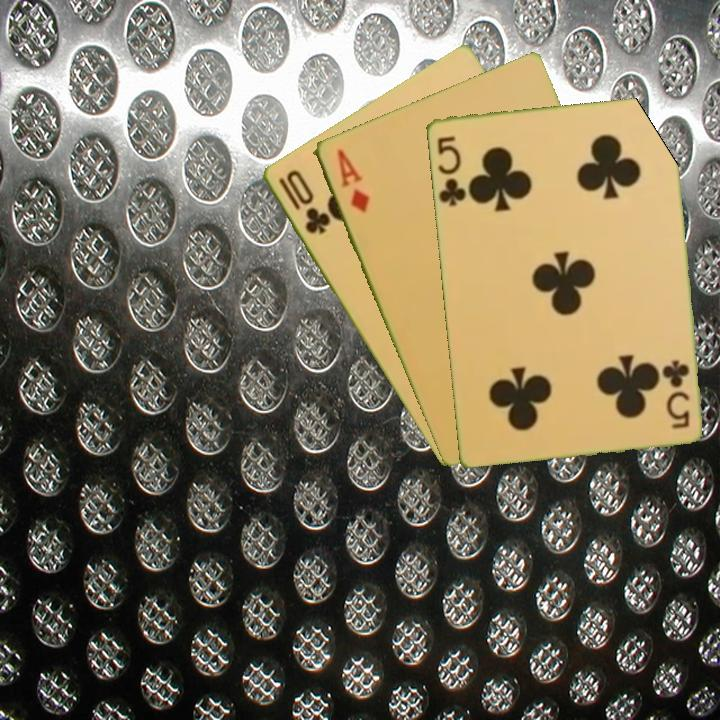10c: (274, 166, 333, 237)
5c: (433, 132, 469, 209), (660, 356, 692, 432)
Ad: (333, 145, 372, 215)
